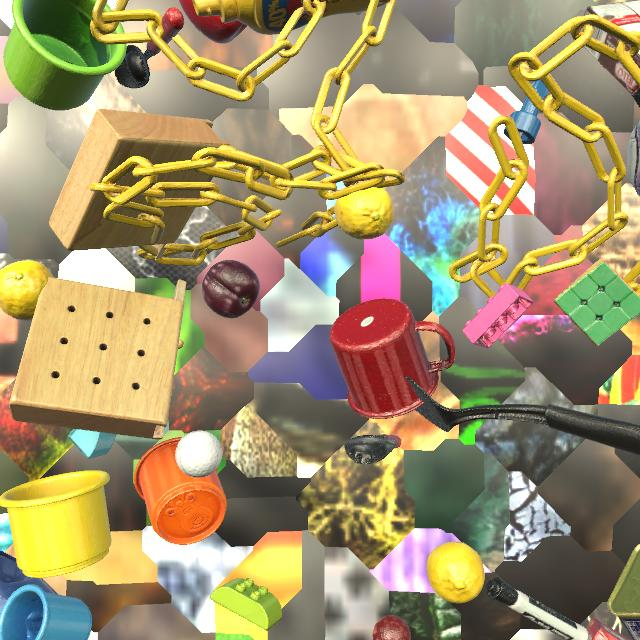ycb_003_cracker_box: (586, 617, 630, 640)
ycb_006_mustard_bottle: (193, 0, 387, 35)
ycb_008_pudding_box: (581, 0, 640, 96)
ycb_010_potted_meat_can: (607, 544, 640, 640)
ycb_013_apple: (179, 0, 247, 44)
ycb_014_lemon: (427, 541, 485, 604), (334, 185, 394, 240), (0, 260, 54, 321)
ycb_018_plum: (202, 260, 260, 318)
